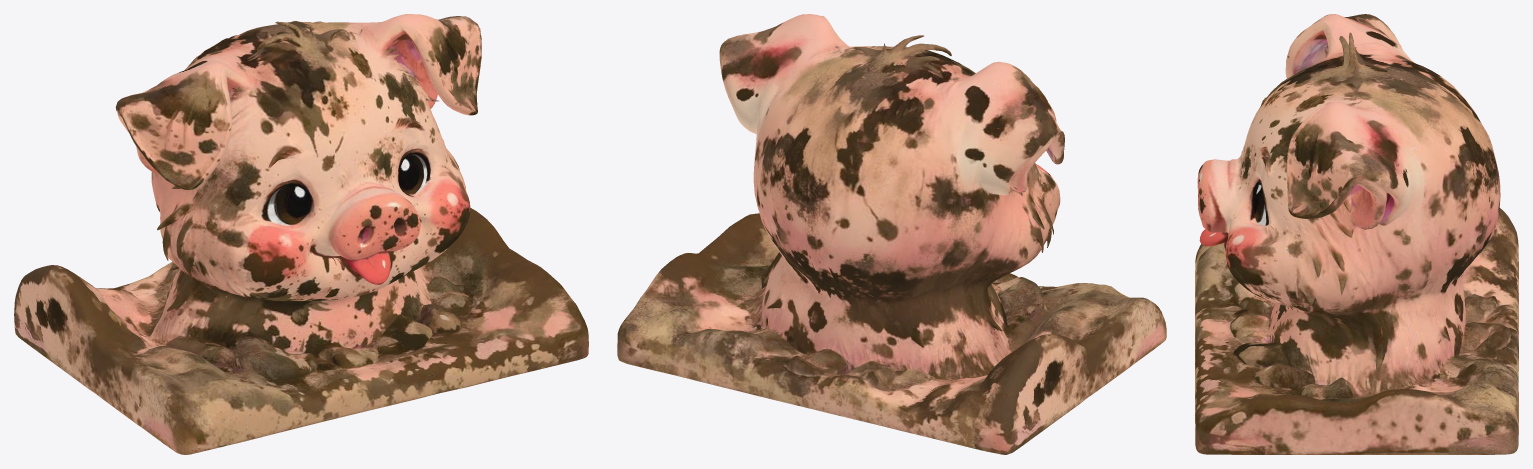
The model's file is muddy-piglet.glb.
3 views of the same model, side by side, from view 1: azimuth 30°, elevation 25°; view 2: azimuth 150°, elevation 25°; view 3: azimuth 270°, elevation 25° (orthographic). The views are drawn at different scales.
Bounding box in the file's own units: 1.9 × 1.46 × 1.36.
Materials: 1 (1 with a texture image).
